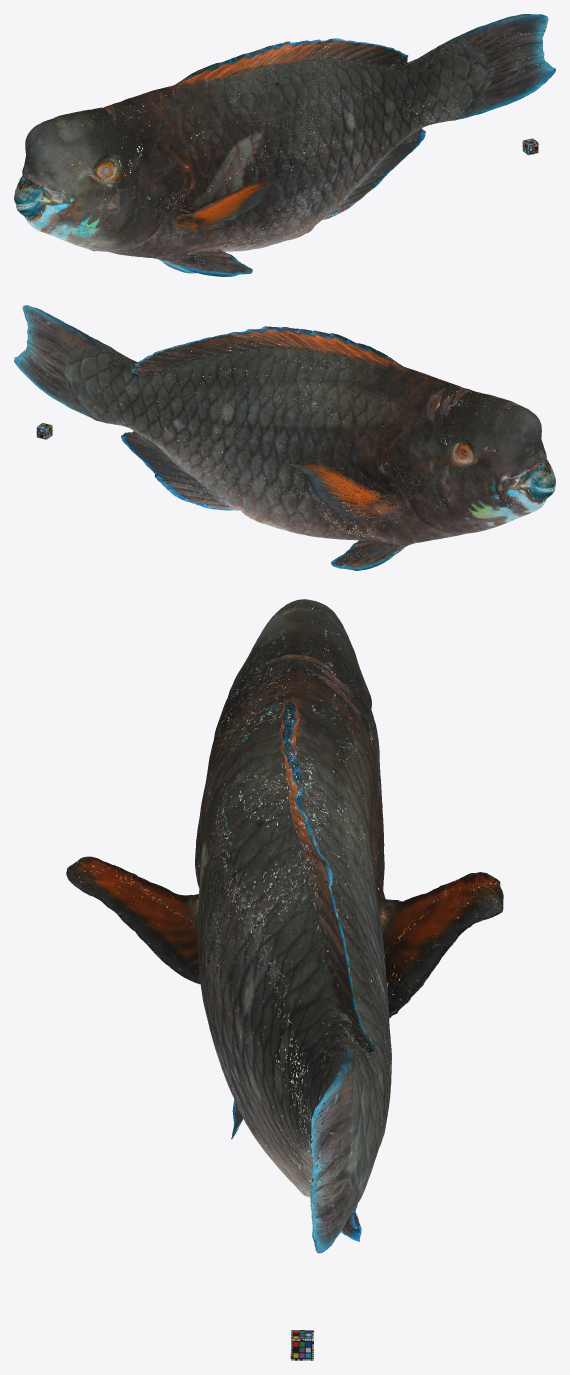
The model's file is scan_knobsnout.glb.
3 views of the same model, one above another, from view 1: azimuth 30°, elevation 25°; view 2: azimuth 150°, elevation 25°; view 3: azimuth 270°, elevation 25° (orthographic). The views are drawn at different scales.
Visible parts, largest first — view 1: Object_6, Object_13, Object_20; view 2: Object_13, Object_6, Object_20; view 3: Object_6, Object_13, Object_20.
Boxes of the visible parts, <box> form: Object_6: <box>14,14,551,276</box>; Object_13: <box>14,15,536,273</box>; Object_20: <box>14,14,555,276</box>; Object_13: <box>19,310,555,568</box>; Object_6: <box>14,305,555,569</box>; Object_20: <box>15,305,555,570</box>; Object_6: <box>76,605,503,1253</box>; Object_13: <box>66,599,503,1242</box>; Object_20: <box>66,599,502,1252</box>.
Bounding box in the file's own units: 24 × 9.38 × 8.47.
Materials: 4 (4 with a texture image).
